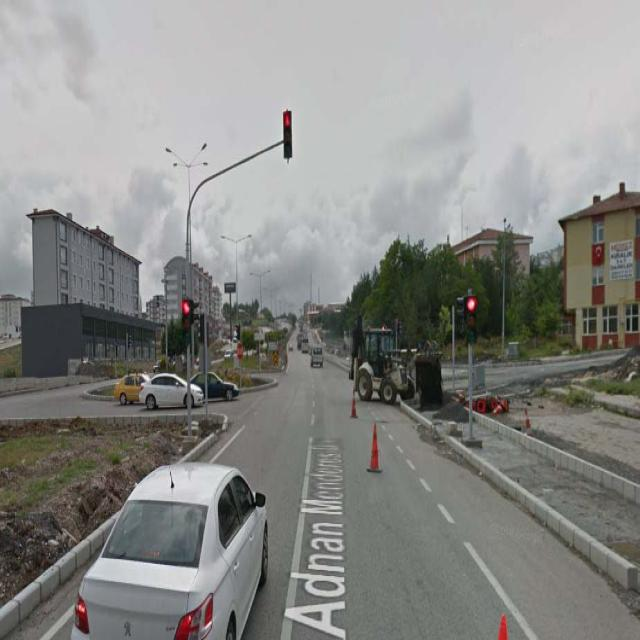kirmizi: (467, 296, 476, 348), (184, 300, 193, 350), (283, 110, 292, 159)
